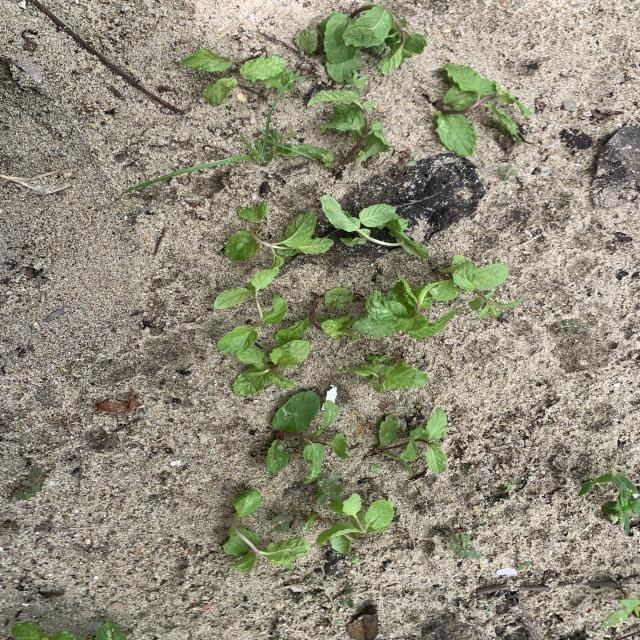crop: (214, 211, 334, 321), (297, 3, 427, 80), (434, 64, 531, 155), (175, 47, 307, 106), (223, 489, 308, 571), (268, 391, 346, 480), (320, 194, 427, 258), (354, 274, 457, 338), (309, 90, 390, 167), (433, 255, 519, 319), (370, 409, 446, 473), (275, 287, 355, 344), (317, 494, 393, 553), (217, 298, 286, 360), (578, 471, 639, 532), (233, 344, 305, 395), (339, 354, 427, 391), (12, 620, 75, 639), (603, 598, 639, 626), (291, 145, 334, 166), (237, 204, 268, 223)
weed: (118, 108, 296, 199), (12, 468, 45, 499), (448, 533, 480, 559), (316, 474, 341, 503), (271, 508, 295, 529), (398, 154, 419, 171), (557, 319, 582, 333), (498, 164, 516, 179), (304, 512, 319, 530), (503, 478, 516, 494), (342, 598, 353, 607), (371, 466, 382, 473), (602, 427, 611, 432), (305, 575, 312, 581)
